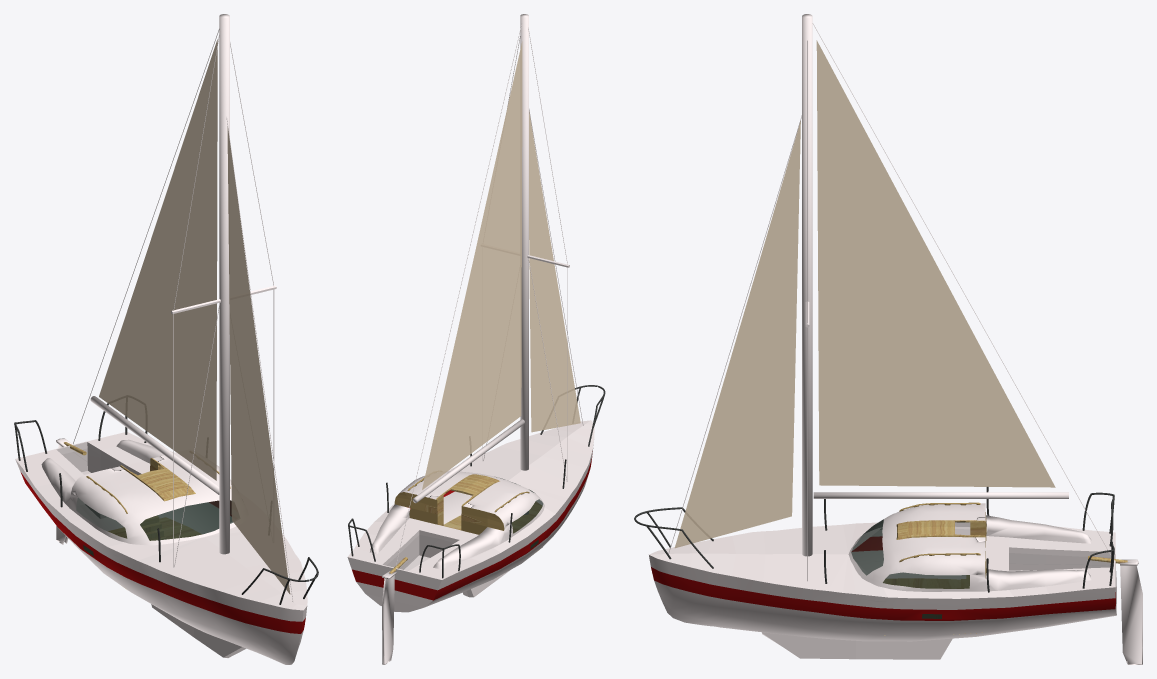
Rendered from Vagabond.obj.
3 renders of one model, left to right at view 1: azimuth 30°, elevation 25°; view 2: azimuth 150°, elevation 25°; view 3: azimuth 270°, elevation 25°, orthographic. The views are drawn at different scales.
Visible parts, largest first — view 1: SailMain_Plane.002, Hull_Cube, Deck_Plane, SailJib_Plane.001, Cabin_Cabin11, MastMain_Cylinder, Stays1_Cylinder.002, Cover_Cabin11.001, Boom_Cylinder.001, HandRails_Mesh, Cabin2, Stays2_Cylinder.003 (+1 smaller); view 2: SailMain_Plane.002, Deck_Plane, SailJib_Plane.001, Cabin_Cabin11, Hull_Cube, MastMain_Cylinder, Cabin2, Rudder, HandRails_Mesh, Stays1_Cylinder.002, Stays2_Cylinder.003, Boom_Cylinder.001 (+1 smaller); view 3: SailMain_Plane.002, SailJib_Plane.001, Hull_Cube, Deck_Plane, Cabin_Cabin11, MastMain_Cylinder, Keel_Cube.001, Rudder, Boom_Cylinder.001, HandRails_Mesh, Cover_Cabin11.001, Stays2_Cylinder.003 (+1 smaller).
Boxes of the visible parts, <box> form: SailMain_Plane.002: <box>99,39,217,480</box>; Hull_Cube: <box>15,459,307,664</box>; Deck_Plane: <box>15,432,307,610</box>; SailJib_Plane.001: <box>227,127,290,594</box>; Cabin_Cabin11: <box>41,439,236,545</box>; MastMain_Cylinder: <box>219,14,229,554</box>; Stays1_Cylinder.002: <box>171,30,276,567</box>; Cover_Cabin11.001: <box>120,458,195,501</box>; Boom_Cylinder.001: <box>90,396,219,494</box>; HandRails_Mesh: <box>14,403,318,604</box>; Cabin2: <box>108,459,201,589</box>; Stays2_Cylinder.003: <box>73,29,293,602</box>; SailMain_Plane.002: <box>422,41,522,489</box>; Deck_Plane: <box>347,420,594,612</box>; SailJib_Plane.001: <box>529,111,580,432</box>; Cabin_Cabin11: <box>370,471,544,569</box>; Hull_Cube: <box>407,445,593,607</box>; MastMain_Cylinder: <box>520,14,528,514</box>; Cabin2: <box>394,492,542,551</box>; Rudder: <box>382,557,407,664</box>; HandRails_Mesh: <box>348,385,605,578</box>; Stays1_Cylinder.002: <box>482,27,569,481</box>; Stays2_Cylinder.003: <box>396,23,583,565</box>; Boom_Cylinder.001: <box>413,419,524,503</box>; SailMain_Plane.002: <box>816,40,1055,487</box>; SailJib_Plane.001: <box>674,120,800,548</box>; Hull_Cube: <box>649,526,1116,641</box>; Deck_Plane: <box>649,522,1116,614</box>; Cabin_Cabin11: <box>848,502,1091,591</box>; MastMain_Cylinder: <box>802,14,812,556</box>; Keel_Cube.001: <box>762,632,952,659</box>; Rudder: <box>1088,556,1142,664</box>; Boom_Cylinder.001: <box>813,492,1068,498</box>; HandRails_Mesh: <box>634,487,1114,592</box>; Cover_Cabin11.001: <box>896,520,985,539</box>; Stays2_Cylinder.003: <box>668,23,1111,555</box>.
Size of the model in its own units: 1.88 by 7.33 by 5.22.
Materials: 9 (3 with a texture image).
